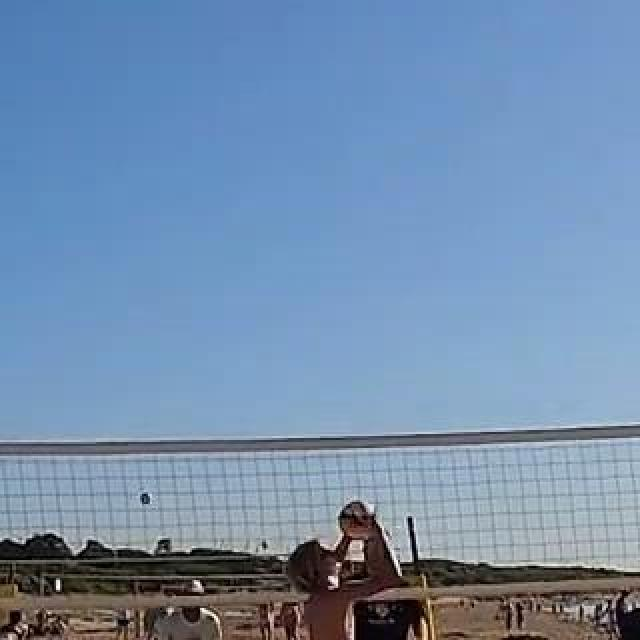volleyball: (339, 501, 375, 541), (141, 491, 151, 505)
